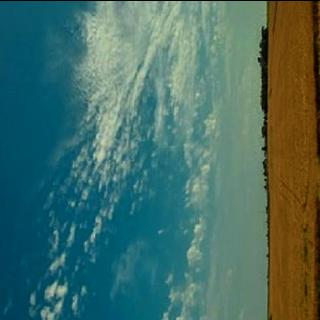Cirrostratus: (16, 0, 231, 320)
